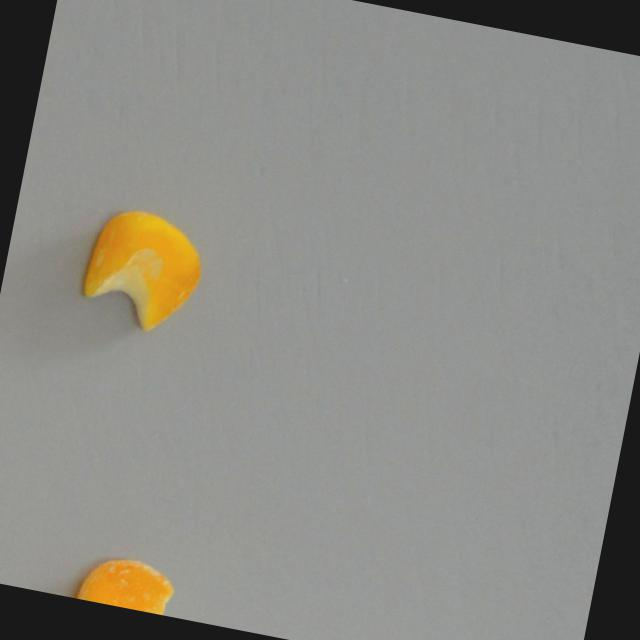pelicula: (77, 206, 212, 340), (72, 551, 182, 617)
